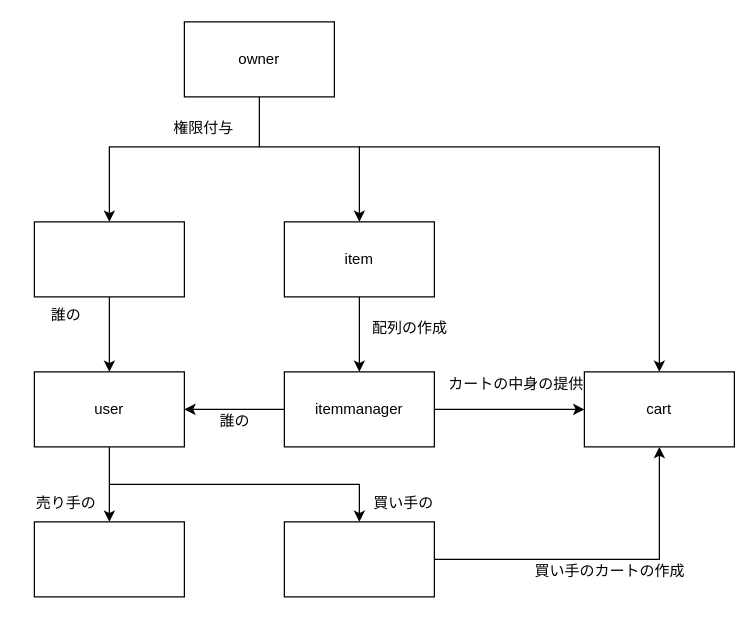
The diagram is 756 pixels wide and 619 high, and some of its shapes have lost their labels. The shapes that lost their labels are listed below. From the top down, each one's box as (x1, y1, x2, y2) in pixels, then its label:
(33, 221, 184, 297): wallet
(33, 521, 184, 597): seller
(283, 521, 434, 597): customer
